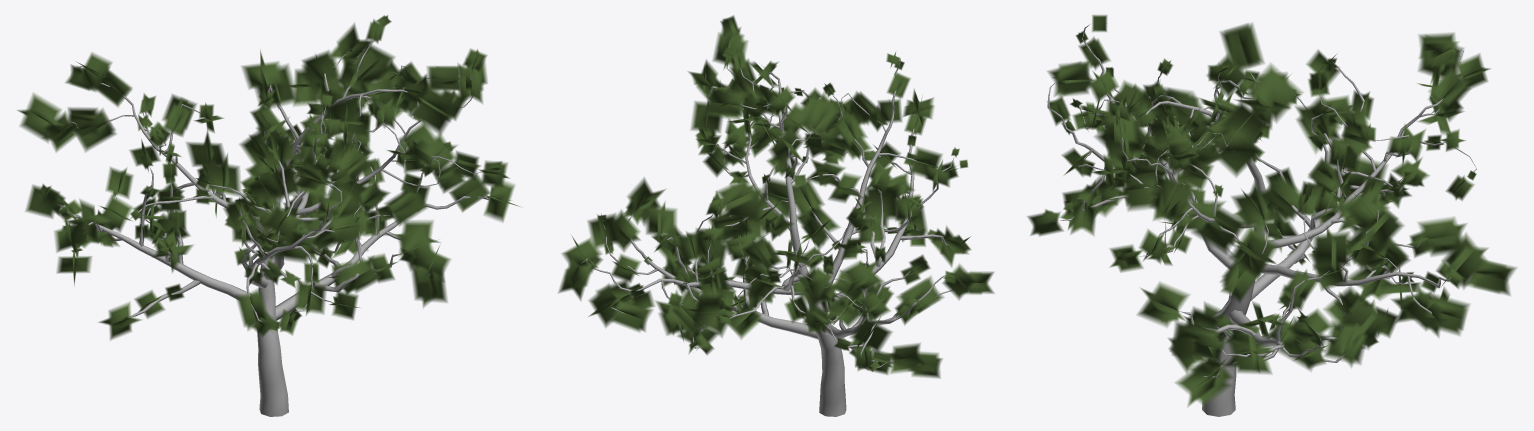
Rendered from foliage-conifer.glb.
3 renders of one model, left to right at view 1: azimuth 30°, elevation 25°; view 2: azimuth 150°, elevation 25°; view 3: azimuth 270°, elevation 25°, orthographic. The views are drawn at different scales.
Parts seen in each view (by area): view 1: leaves, branches; view 2: leaves, branches; view 3: leaves, branches.
Boxes of the visible parts, left/top/right/bottom form: leaves: left=17, top=15, right=520, bottom=340; branches: left=47, top=39, right=489, bottom=416; leaves: left=558, top=15, right=994, bottom=378; branches: left=581, top=38, right=957, bottom=416; leaves: left=1027, top=15, right=1516, bottom=407; branches: left=1047, top=24, right=1476, bottom=416.
Bounding box in the file's own units: 49.29 × 39.84 × 43.86.
2 materials, 1 textured.
